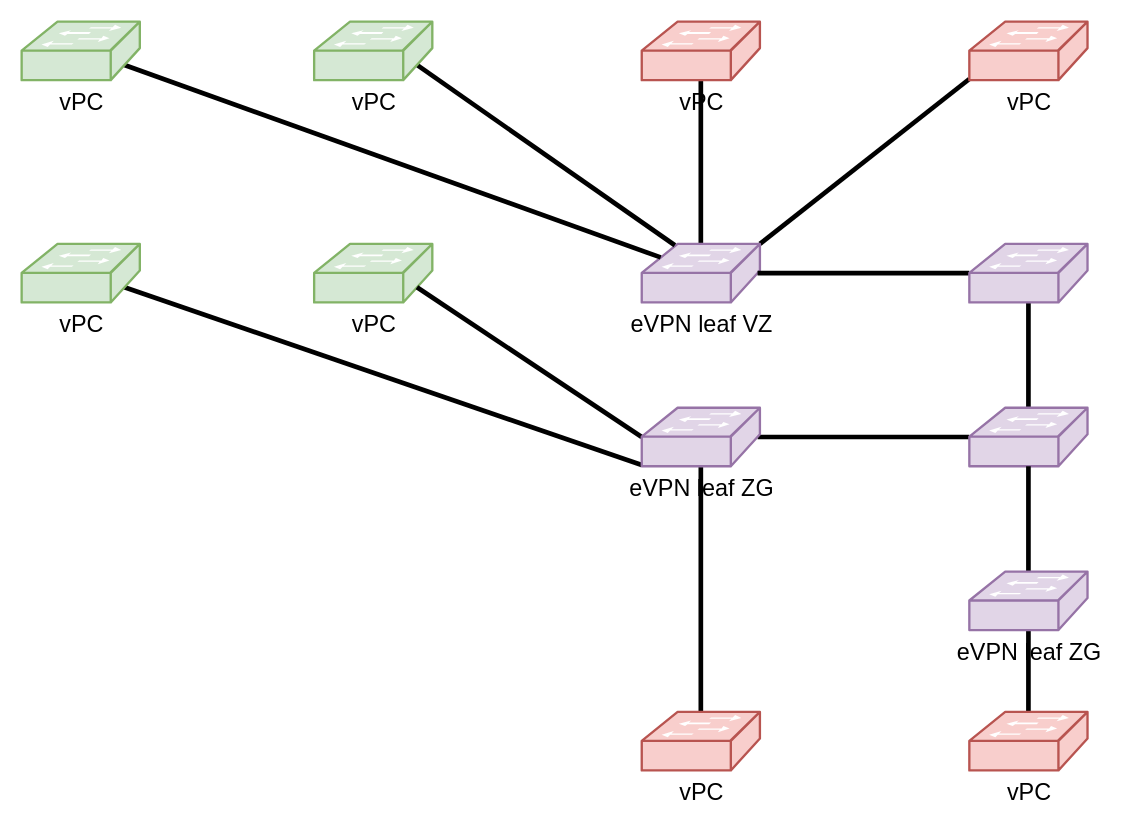
Image size: 1129x826. Some labels were removed from this diagram. Here are the shapes that lost their labels. From the top down, the box of each, then its label:
(968, 242, 1088, 303): eVPN spine VZ
(968, 406, 1088, 467): eVPN spine ZG
